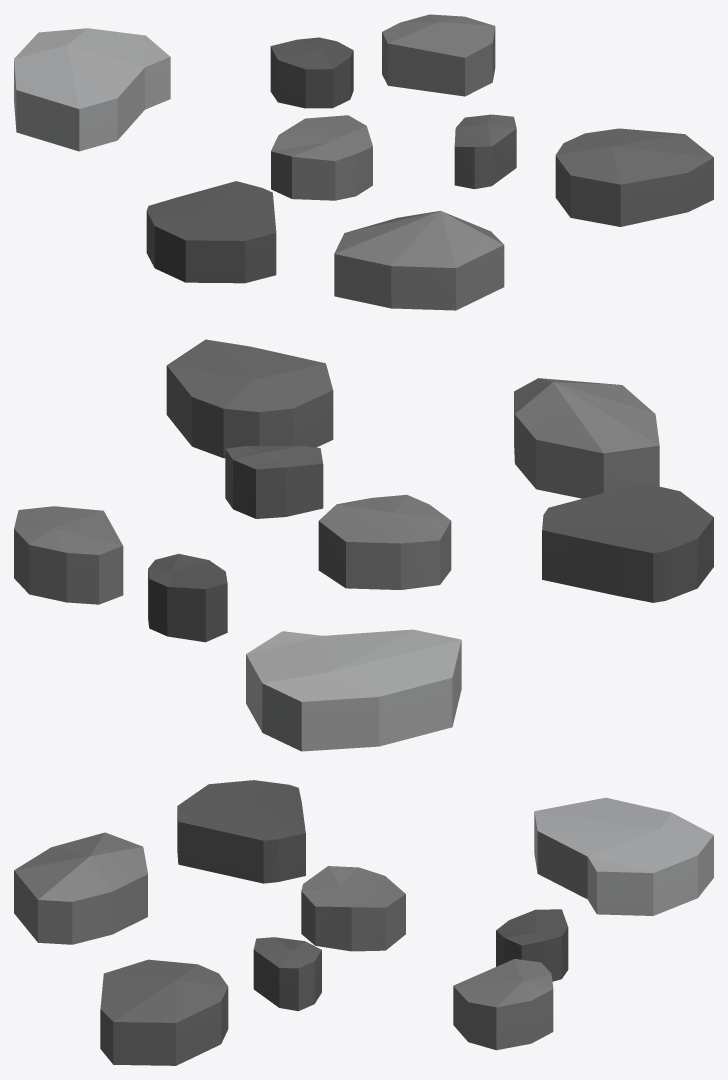
Rendered from Stone_C.fbx.
The picture shows the model from 3 angles, top to bottom: view 1: azimuth 30°, elevation 25°; view 2: azimuth 150°, elevation 25°; view 3: azimuth 270°, elevation 25°; orthographic projection. The views are drawn at different scales.
Visible parts, largest first — view 1: Stone_C; view 2: Stone_C; view 3: Stone_C.
Boxes of the visible parts, bbox=[...] form: Stone_C: bbox=[14, 14, 713, 310]; Stone_C: bbox=[14, 339, 713, 751]; Stone_C: bbox=[14, 780, 713, 1065].
Size of the model in its own units: 218 by 28.38 by 266.
